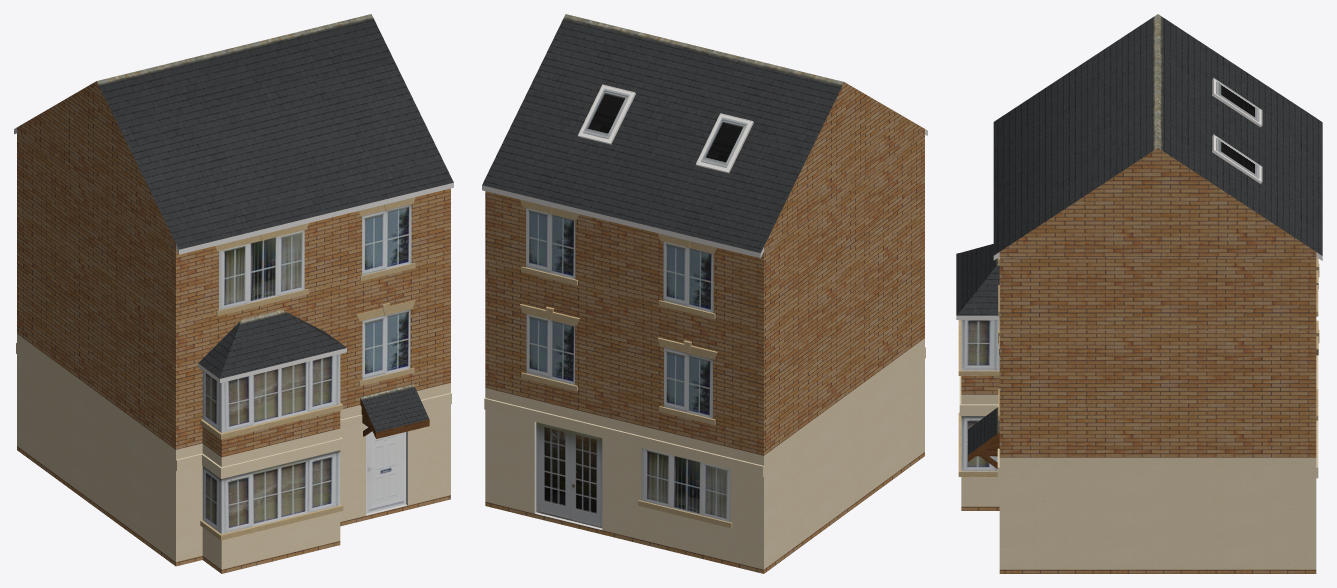
File: modernterrace3story1m.FBX
3 renders of one model, left to right at view 1: azimuth 30°, elevation 25°; view 2: azimuth 150°, elevation 25°; view 3: azimuth 270°, elevation 25°, orthographic.
Visible parts, largest first — view 1: Box001; view 2: Box001; view 3: Box001.
Boxes of the visible parts, <box> form: Box001: <box>14,14,453,573</box>; Box001: <box>482,14,927,573</box>; Box001: <box>956,14,1322,573</box>.
Bounding box in the file's own units: 800 × 1188 × 925.
